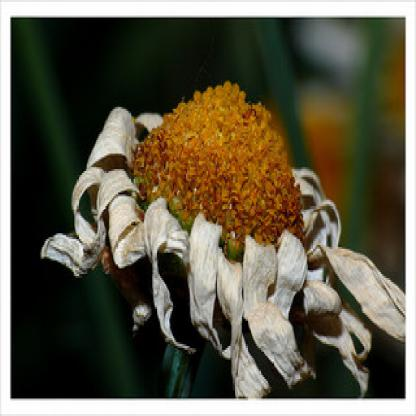ASTER: (48, 34, 409, 392)
